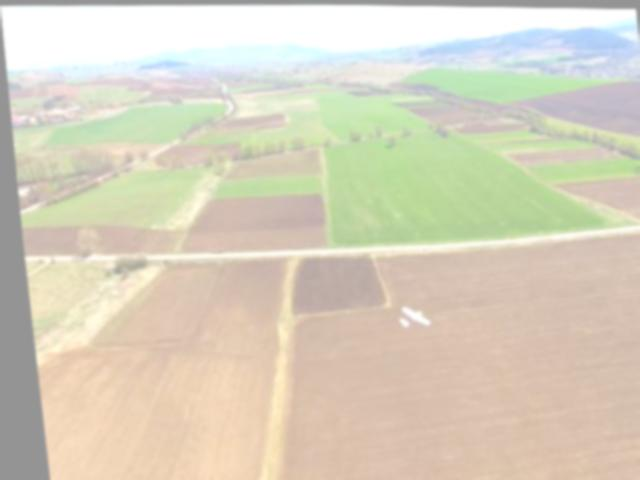uav: (383, 298, 427, 333)
